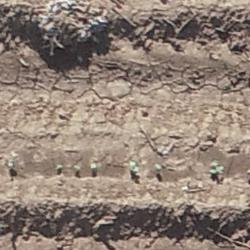cotton: (210, 165, 218, 173), (132, 162, 137, 172), (155, 165, 160, 172), (57, 164, 63, 169), (91, 164, 96, 169), (219, 166, 224, 171), (76, 167, 80, 171)
